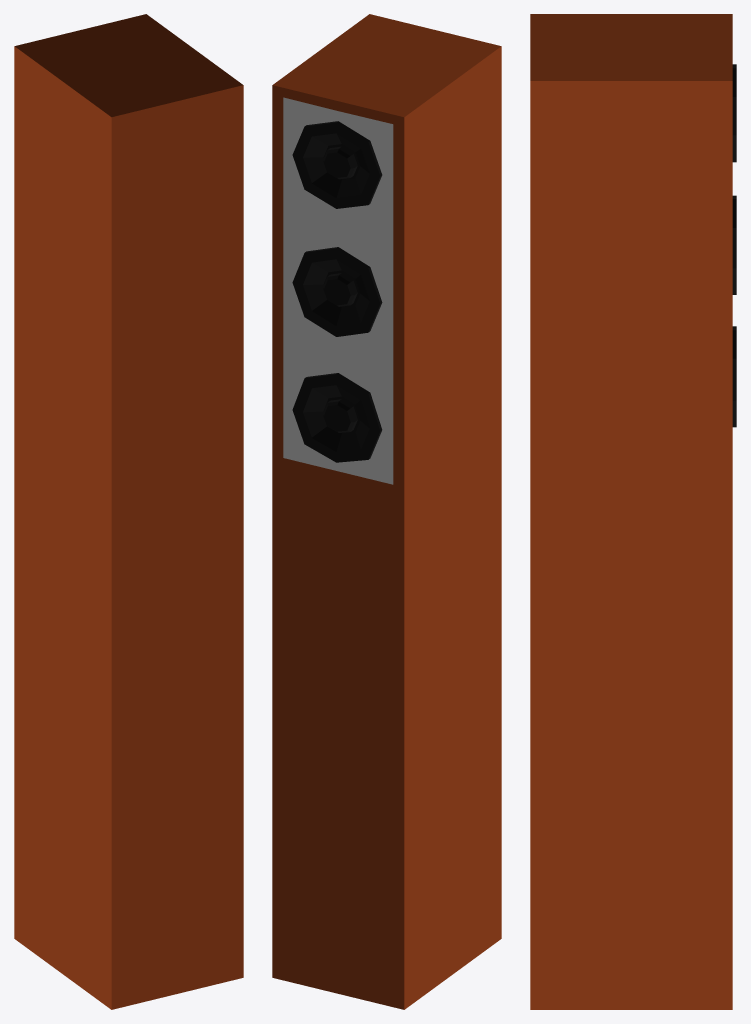
Rendered from Speaker 1.fbx.
The picture shows the model from 3 angles, left to right: view 1: azimuth 30°, elevation 25°; view 2: azimuth 150°, elevation 25°; view 3: azimuth 270°, elevation 25°; orthographic projection. The views are drawn at different scales.
Parts seen in each view (by area): view 1: Node 0; view 2: Node 0; view 3: Node 0.
Boxes of the visible parts, <box> form: Node 0: <box>14,14,243,1009</box>; Node 0: <box>272,14,501,1009</box>; Node 0: <box>530,14,736,1009</box>.
Bounding box in the file's own units: 0.2911 × 1.45 × 0.2236.
